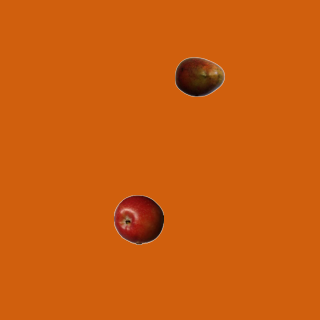Apple Braeburn: (113, 194, 163, 244)
Mango Red: (174, 51, 224, 101)
